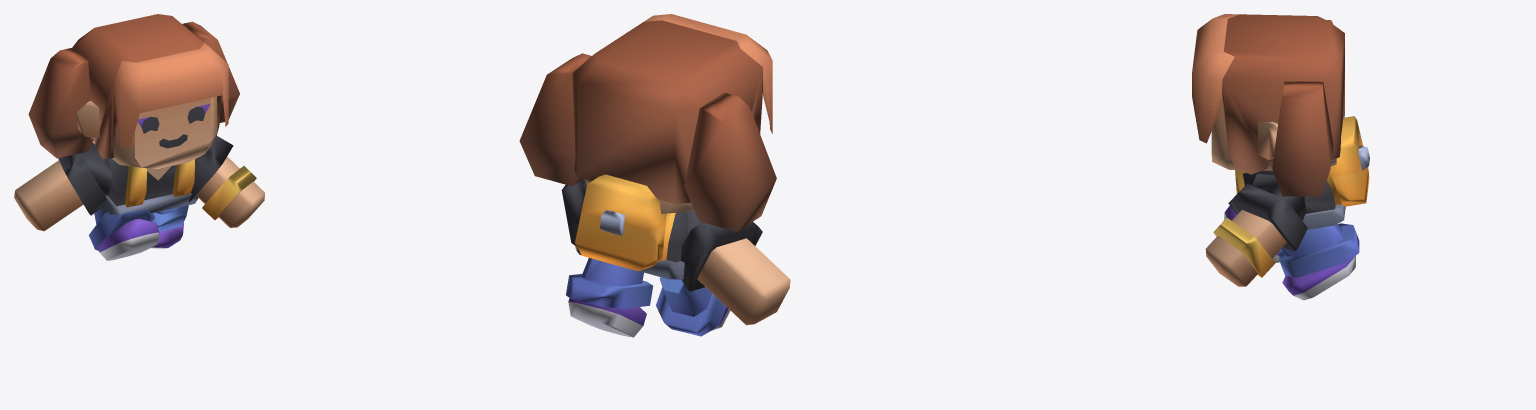
The model's file is climber_sprint_9.glb.
The picture shows the model from 3 angles, left to right: view 1: azimuth 30°, elevation 25°; view 2: azimuth 150°, elevation 25°; view 3: azimuth 270°, elevation 25°; orthographic projection. The views are drawn at different scales.
Parts seen in each view (by area): view 1: climber-sprint-9; view 2: climber-sprint-9; view 3: climber-sprint-9.
Part boxes in pixels (x1,y1,x2,y2): climber-sprint-9: [14, 14, 264, 260]; climber-sprint-9: [519, 14, 790, 337]; climber-sprint-9: [1192, 14, 1369, 300].
Size of the model in its own units: 1.2 by 0.7382 by 1.2.
1 material, 1 textured.
